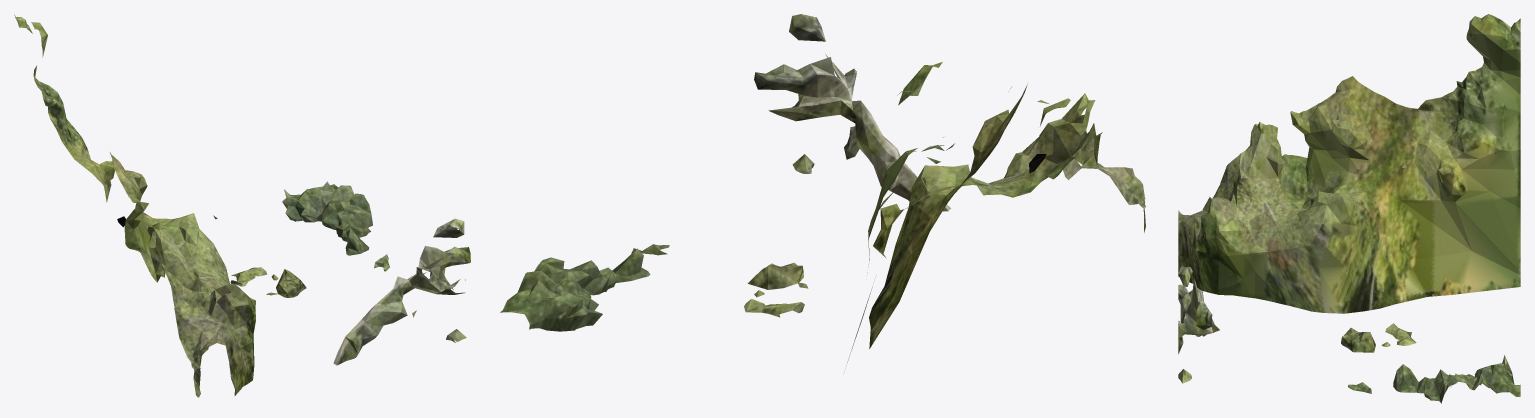
3 views of the same model, side by side, from view 1: azimuth 30°, elevation 25°; view 2: azimuth 150°, elevation 25°; view 3: azimuth 270°, elevation 25° (orthographic). The views are drawn at different scales.
Bounding box in the file's own units: 11.8 × 9.34 × 11.8.
2 materials, 2 textured.
